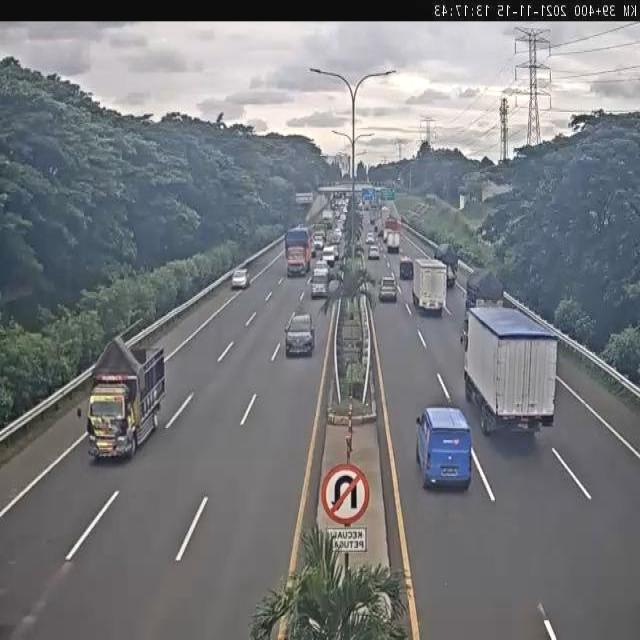Car: (282, 296, 318, 363), (226, 261, 255, 292), (378, 270, 399, 306)
Truck: (463, 298, 570, 451), (78, 327, 169, 470), (410, 251, 452, 319)
Van: (409, 395, 476, 499)
